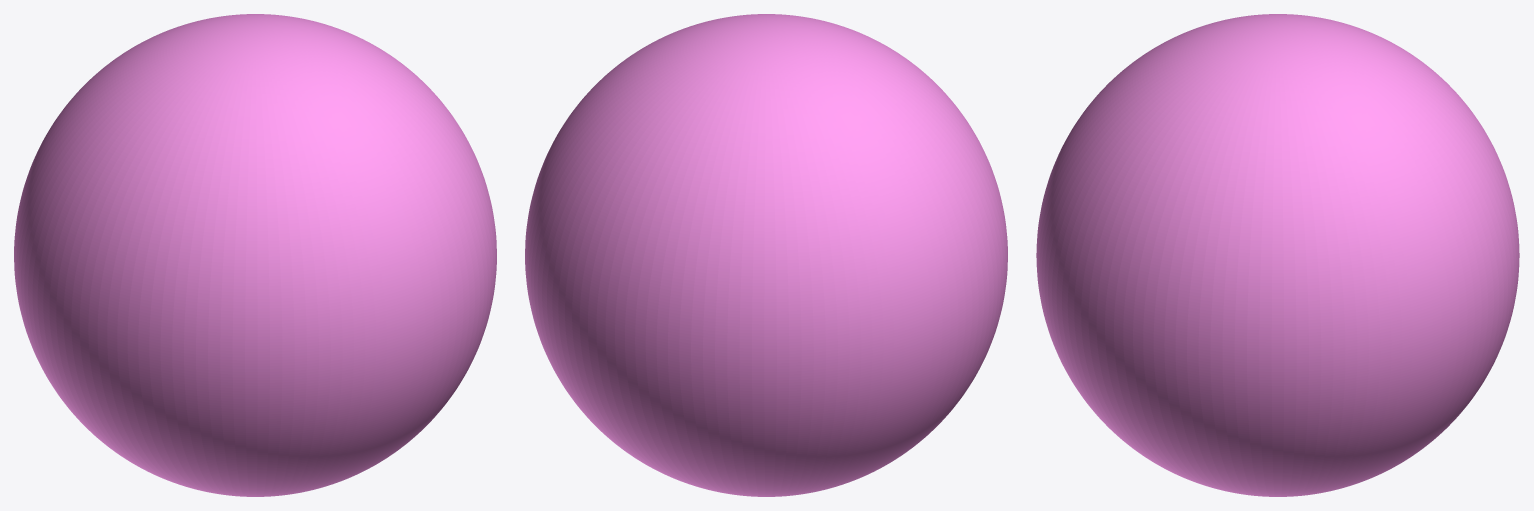
File: pwr1.fbx
3 views of the same model, side by side, from view 1: azimuth 30°, elevation 25°; view 2: azimuth 150°, elevation 25°; view 3: azimuth 270°, elevation 25° (orthographic).
Parts seen in each view (by area): view 1: Sphere; view 2: Sphere; view 3: Sphere.
Part boxes in pixels (box(x1,y1,x2,y2)): Sphere: box(14, 14, 496, 496); Sphere: box(525, 14, 1007, 496); Sphere: box(1036, 14, 1519, 496).
Bounding box in the file's own units: 200 × 200 × 200.
